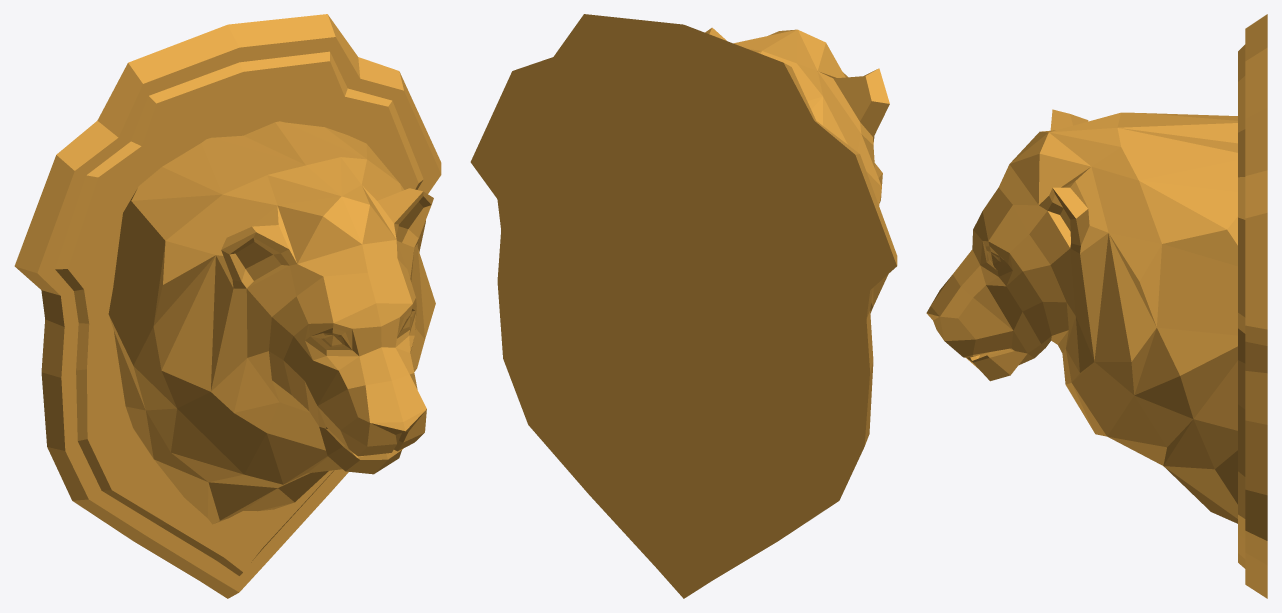
Rendered from SM_Trophy_Lion_Male.fbx.
The picture shows the model from 3 angles, left to right: view 1: azimuth 30°, elevation 25°; view 2: azimuth 150°, elevation 25°; view 3: azimuth 270°, elevation 25°; orthographic projection. The views are drawn at different scales.
Visible parts, largest first — view 1: trophy-lion-male; view 2: trophy-lion-male; view 3: trophy-lion-male.
Part boxes in pixels (left/top/right/bottom): trophy-lion-male: left=14, top=14, right=441, bottom=598; trophy-lion-male: left=470, top=14, right=897, bottom=598; trophy-lion-male: left=926, top=14, right=1267, bottom=598.
Bounding box in the file's own units: 0.9486 × 1.22 × 0.6843.
